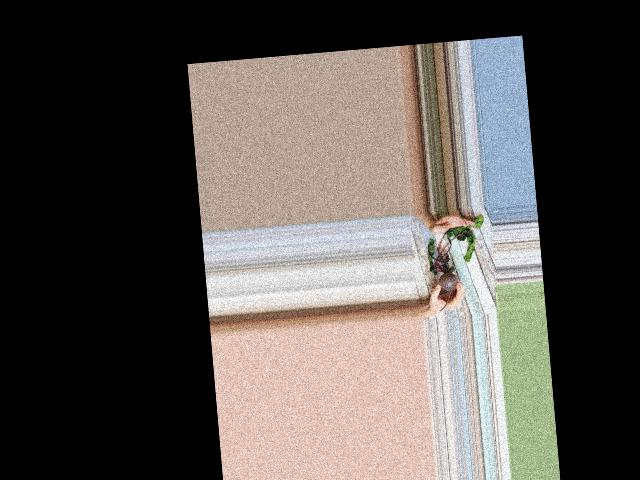beet: (425, 214, 491, 312)
